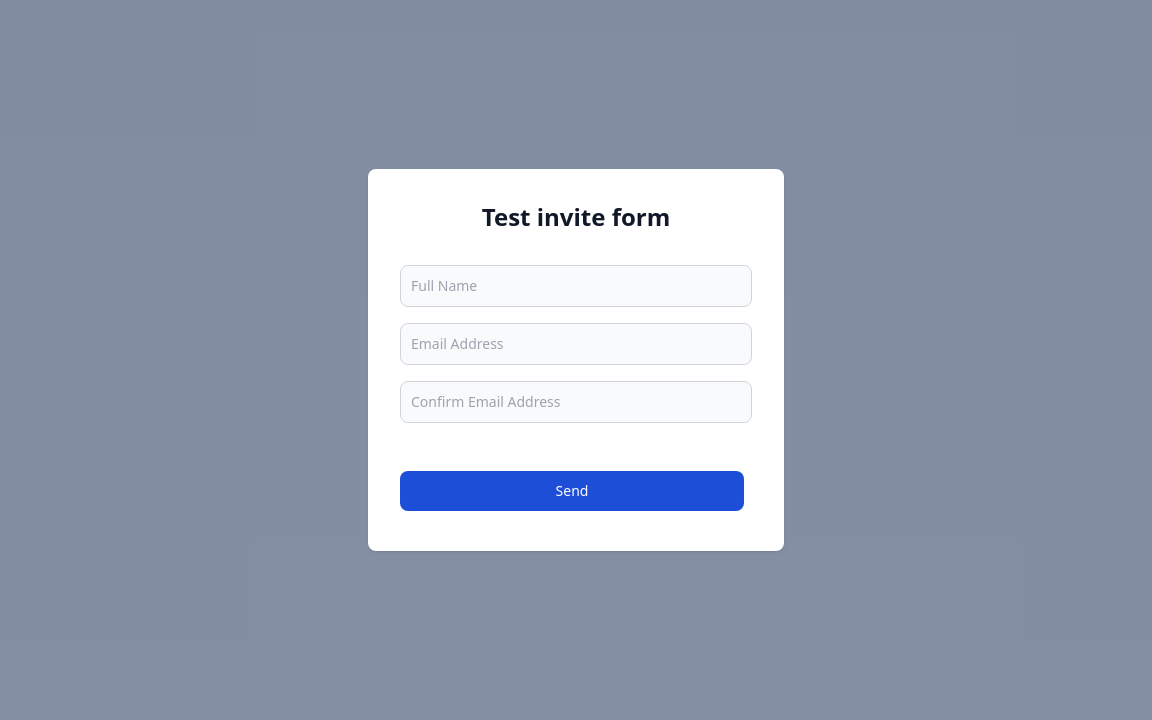
Test: Component: InviteModal -> › Show error message when user not fill all fields
Click the button "Send". click: (572, 491)
box: [400,471,744,511]
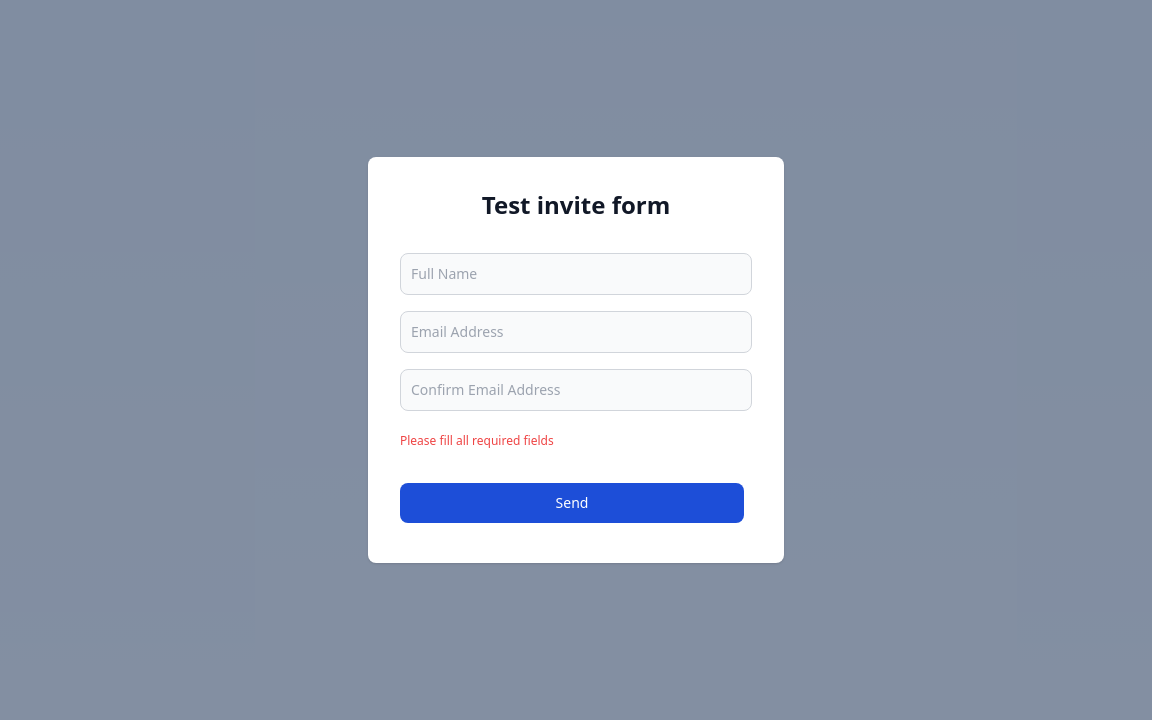
Check: the text "Please fill all required fields" is shown, box [400,432,554,449]
